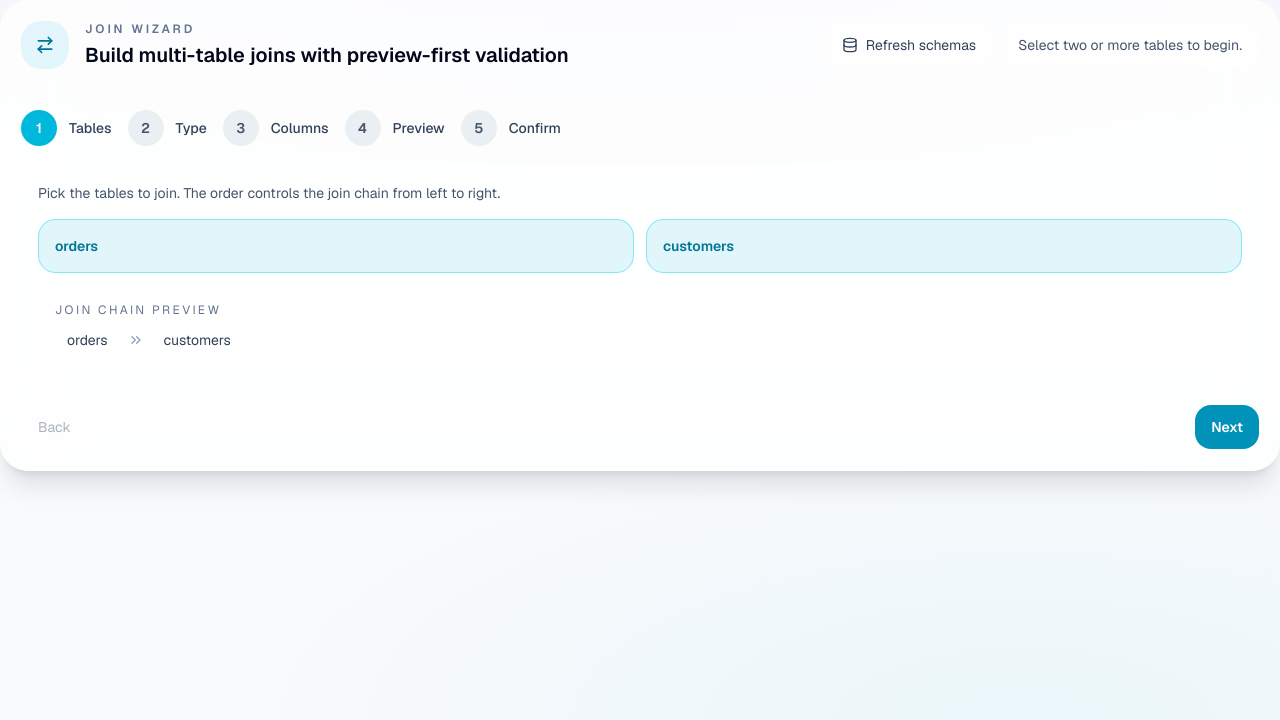
Scenario: DataJoinWizard › refreshes schemas from DuckDB
Click the button "Refresh schemas".
click(909, 45)  # box top-left (825, 22), bottom-right (993, 68)
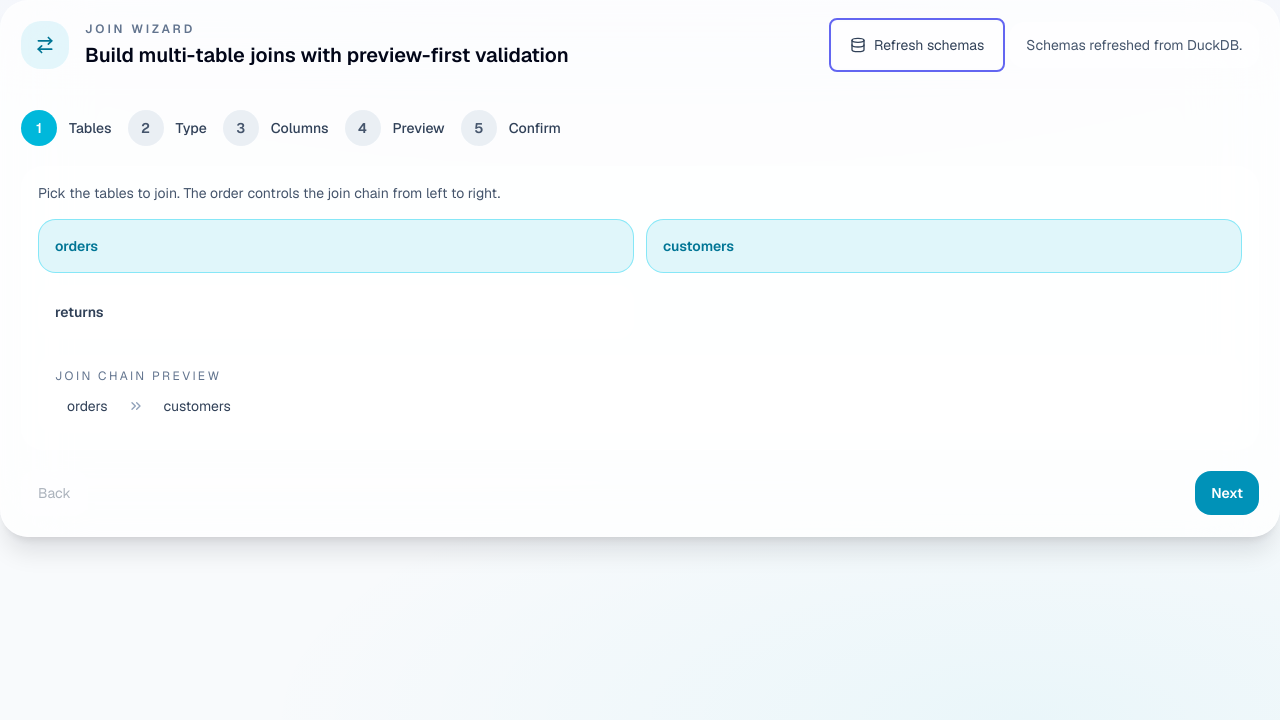
expect the text "Schemas refreshed from DuckDB." is shown: met, box top-left (1009, 22), bottom-right (1259, 68)
